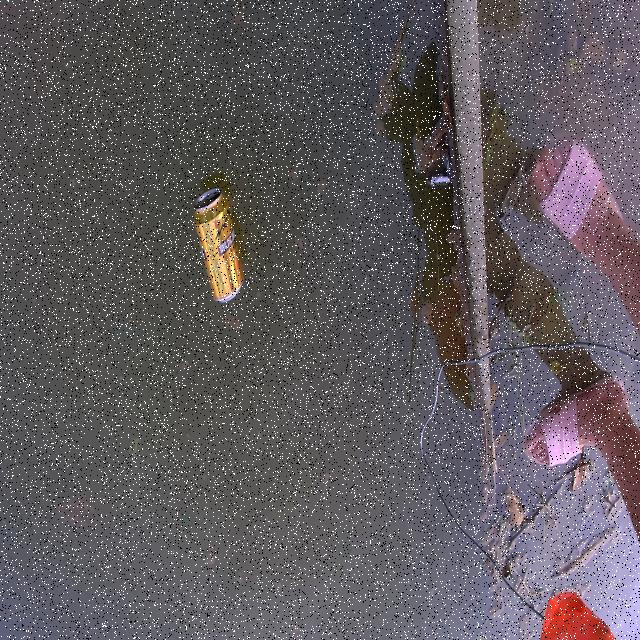Can: (190, 182, 246, 304)
